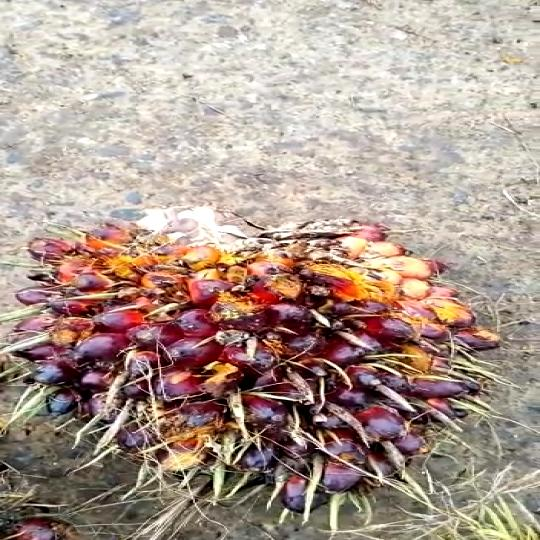masak: (4, 195, 501, 528)
